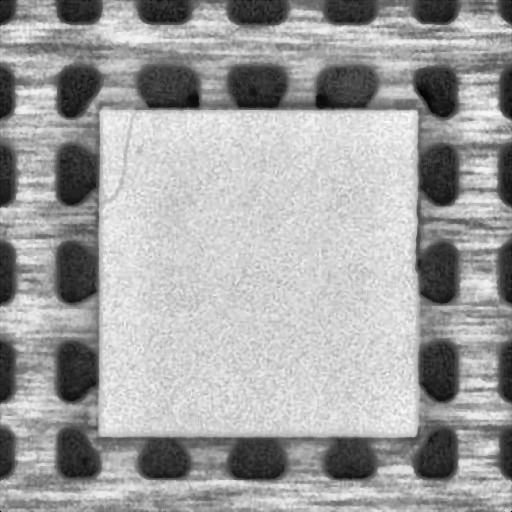DIE_CRACK: (100, 110, 142, 204)
